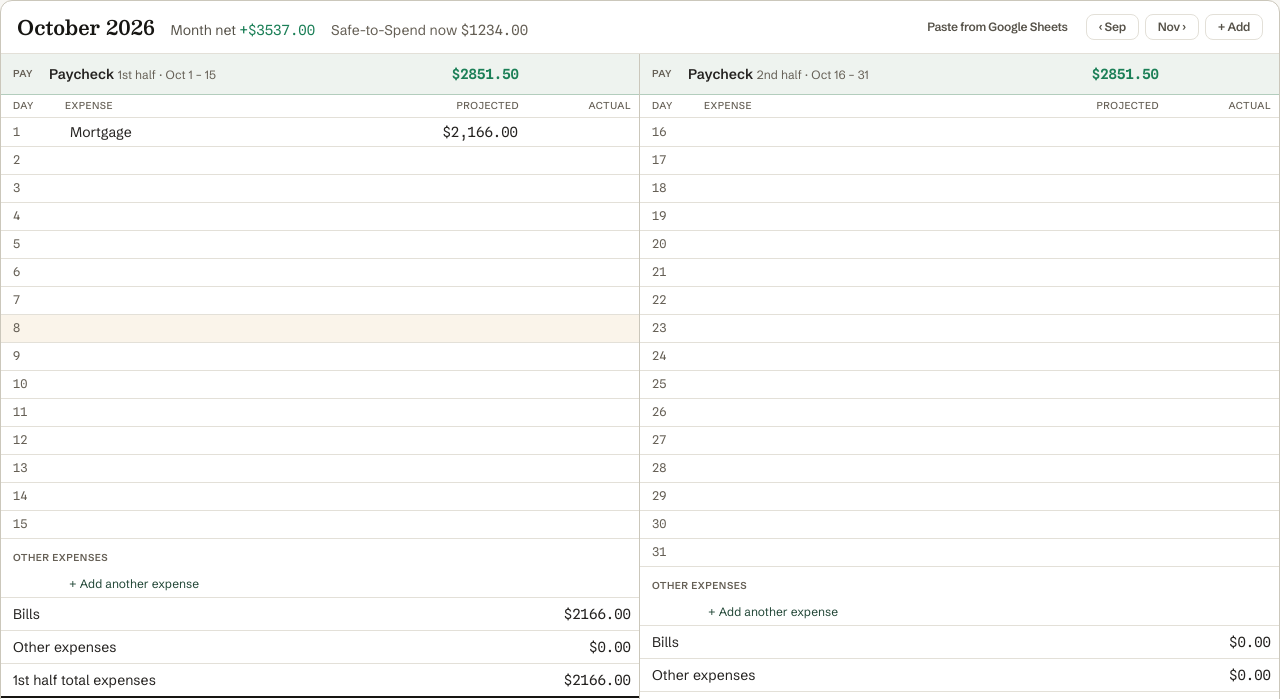
PayPeriodSheet on a wide screen › steps a month at a time
The image size is (1280, 699).
Click the button with aria-label "Next month": (1172, 27) [1145, 14, 1199, 40]
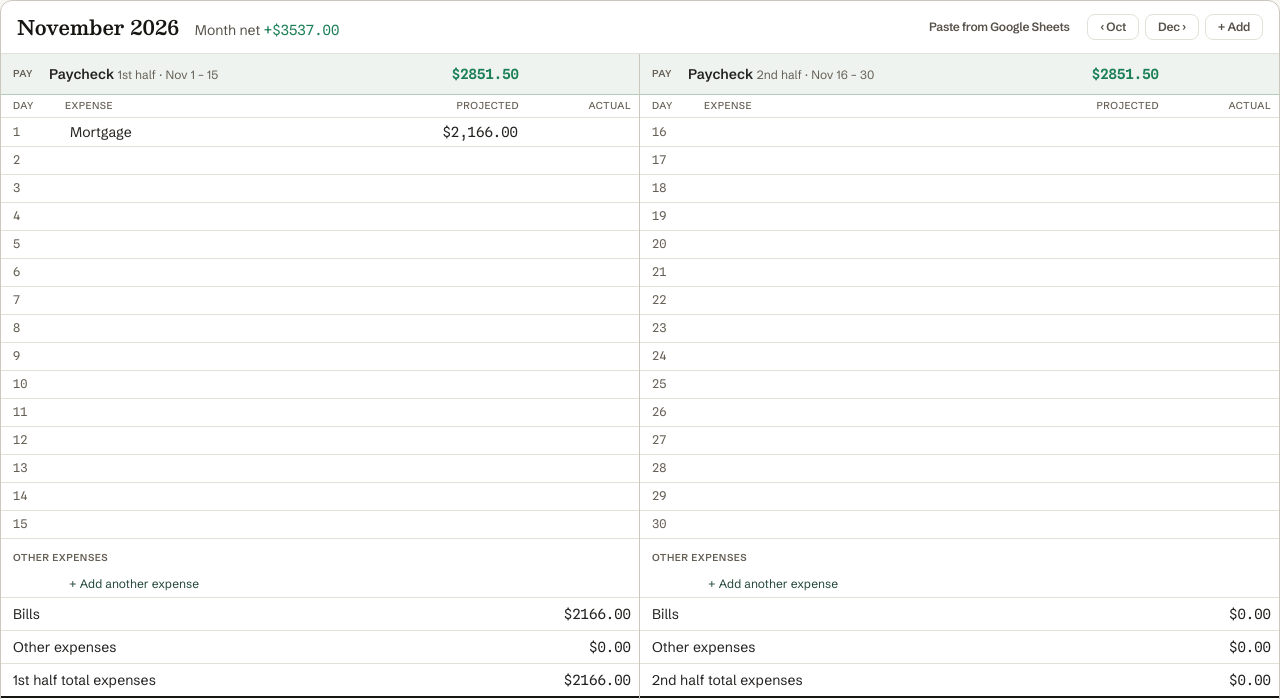
Expected: the heading "November 2026" is shown, [17, 13, 179, 41]
